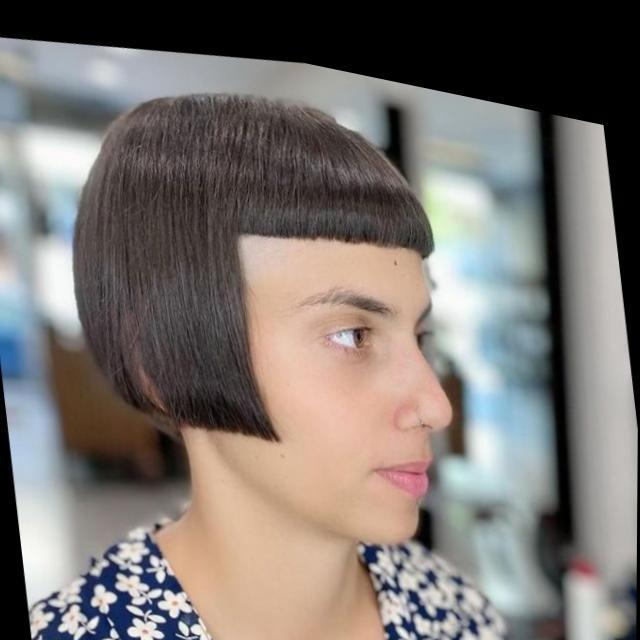Nonhelmet: (70, 75, 466, 556)
